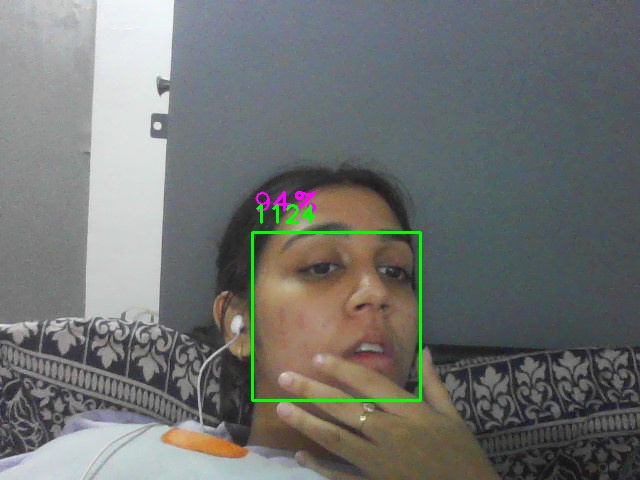real: (252, 232, 421, 401)
